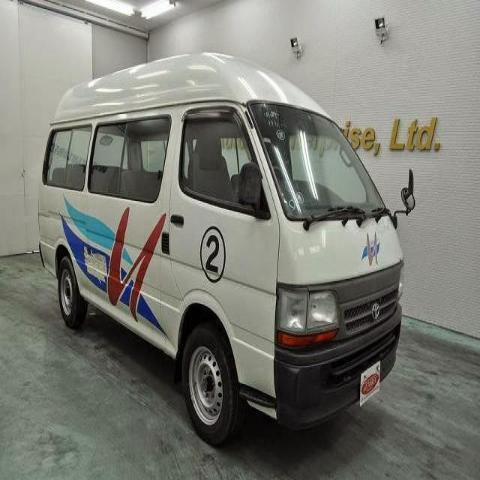van: (37, 54, 416, 448)
